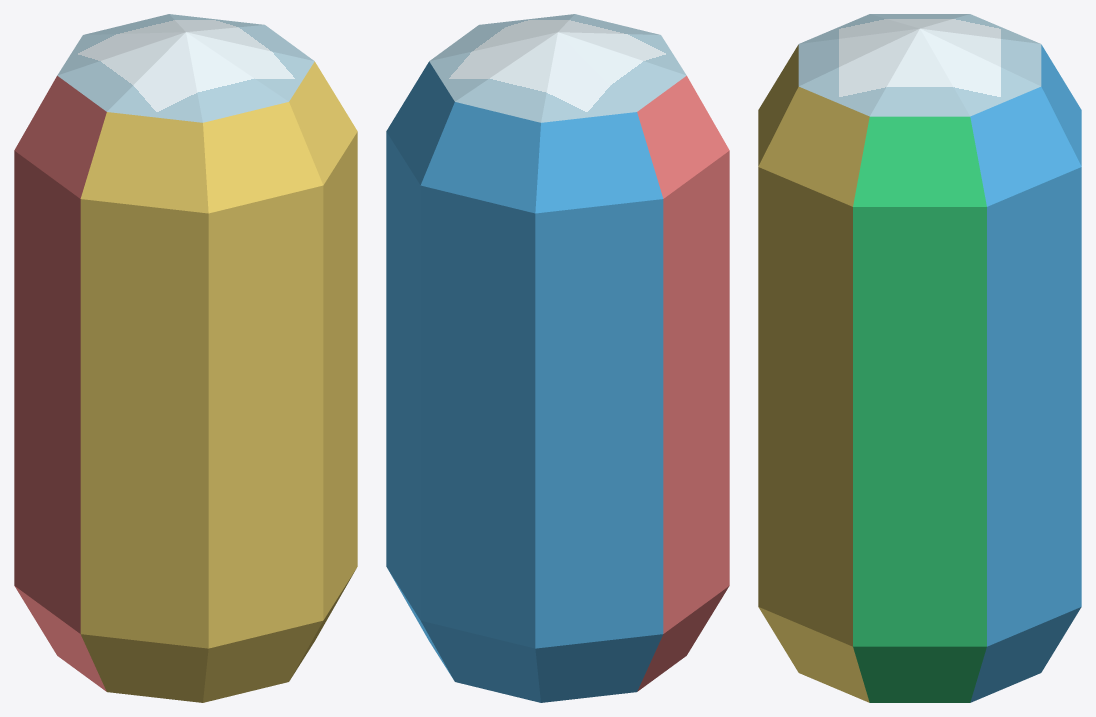
Rendered from plutonium_m.obj.
The picture shows the model from 3 angles, left to right: view 1: azimuth 30°, elevation 25°; view 2: azimuth 150°, elevation 25°; view 3: azimuth 270°, elevation 25°; orthographic projection.
Parts seen in each view (by area): view 1: body; view 2: body; view 3: body.
Boxes of the visible parts, x1,y1,x2,y2 form: body: (14,14,357,702); body: (386,14,729,702); body: (758,14,1081,702).
Bounding box in the file's own units: 0.125 × 0.2812 × 0.125.
Materials: 1 (1 with a texture image).
